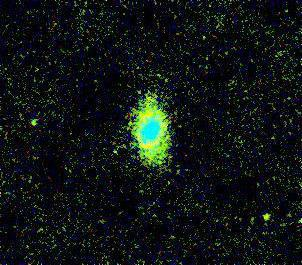star: (21, 112, 51, 142)
